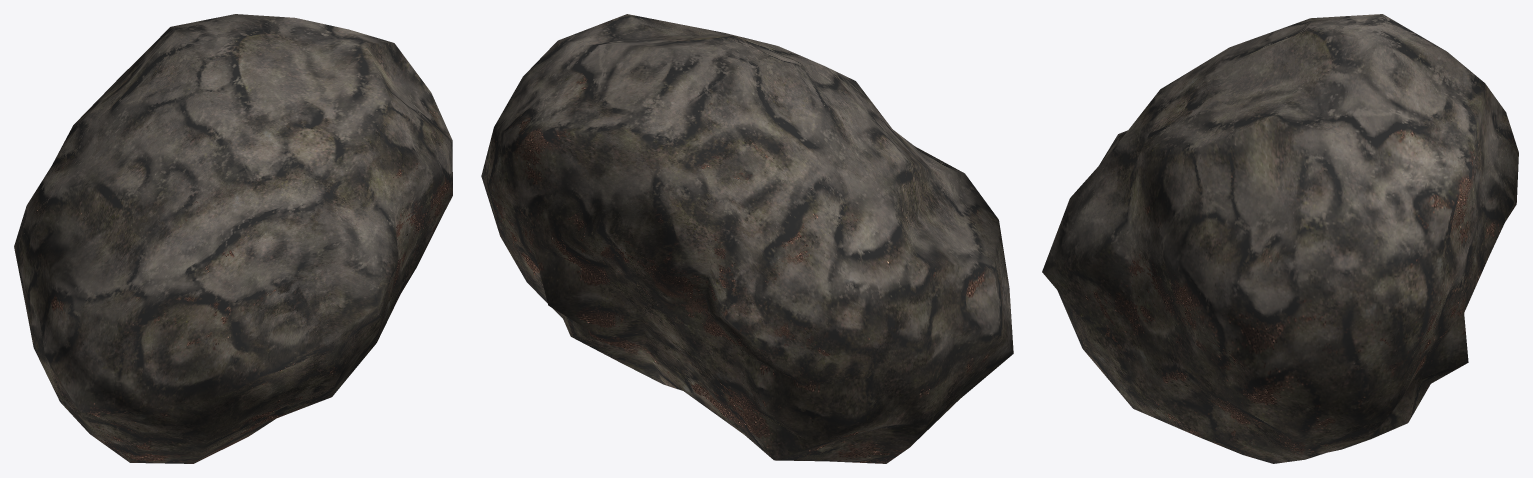
The model's file is asteroid.glb.
3 views of the same model, side by side, from view 1: azimuth 30°, elevation 25°; view 2: azimuth 150°, elevation 25°; view 3: azimuth 270°, elevation 25° (orthographic). The views are drawn at different scales.
Parts seen in each view (by area): view 1: asteroid; view 2: asteroid; view 3: asteroid.
Part boxes in pixels (x1,y1,x2,y2): asteroid: (14,14,452,463); asteroid: (481,14,1013,463); asteroid: (1042,14,1518,463).
Bounding box in the file's own units: 3.07 × 2.66 × 2.49.
Materials: 1 (1 with a texture image).
